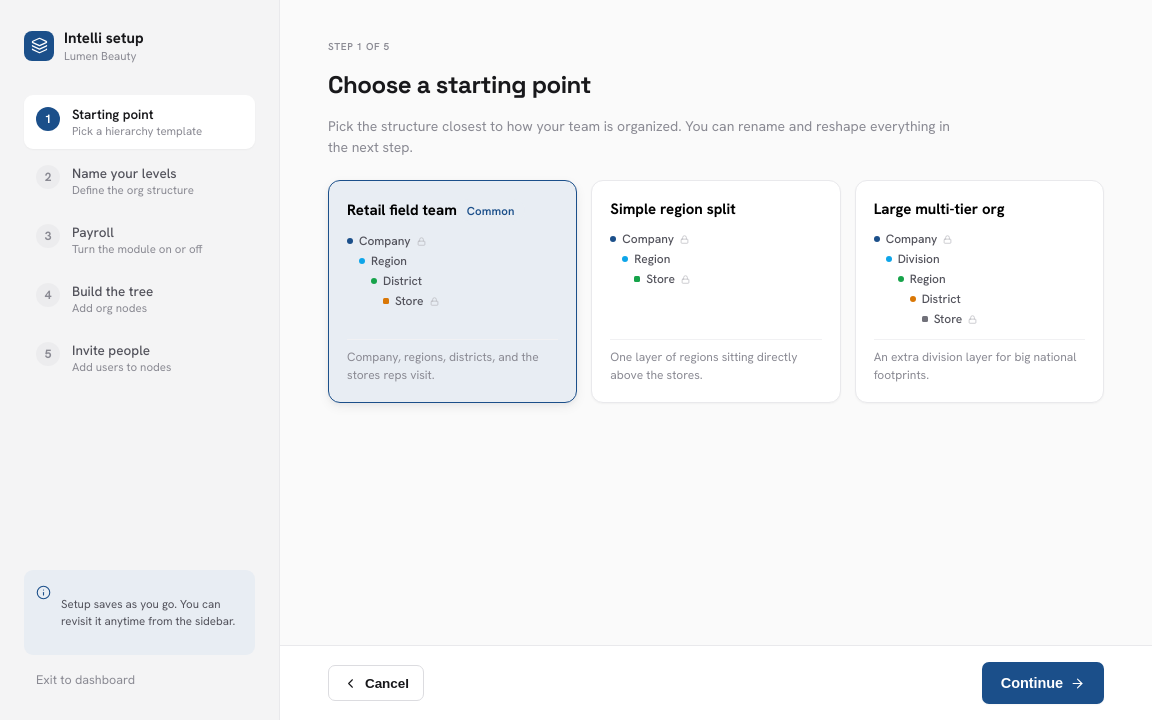
Test: SetupWizard › step 2 Continue saves via PUT /org-levels after the structure is confirmed
Check: the heading "Choose a starting point" is shown, box [328,69,591,100]
Step 1. Click the button "Continue" → (1043, 683), box [982,662,1104,704]
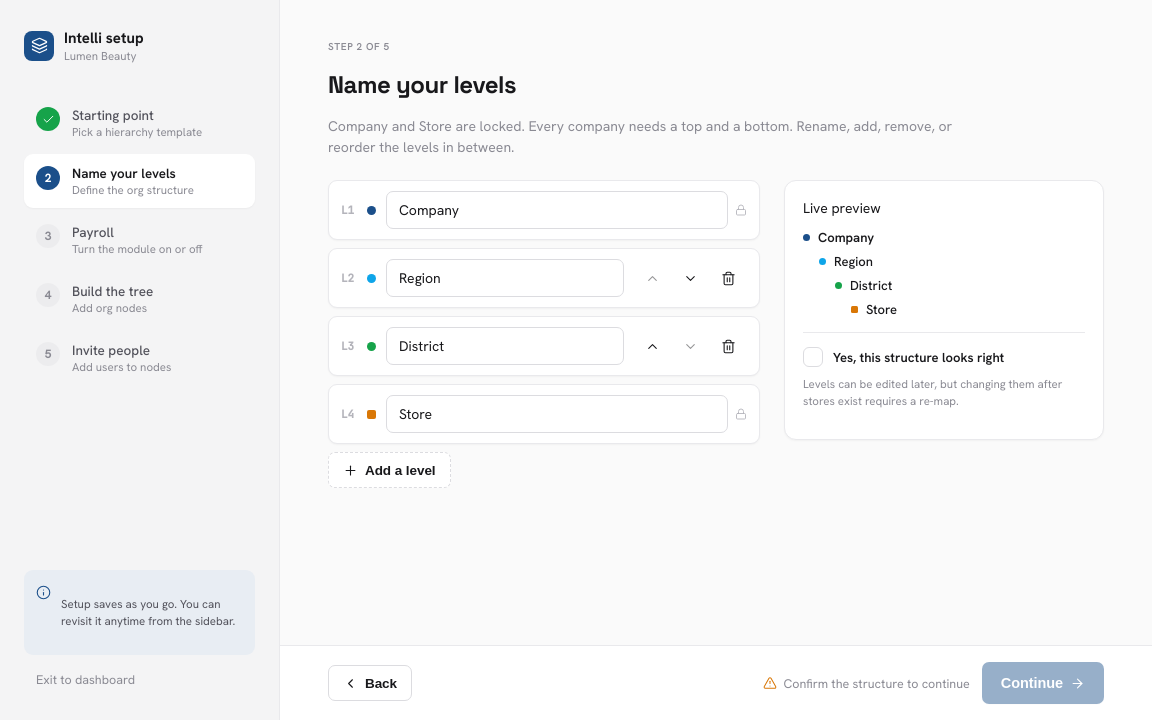
Check: the heading "Name your levels" is shown, box [328,69,516,100]
// Continue is gated until the structure is confirmed.
Step 2. Click the checkbox → (904, 357), box [803,347,1004,367]
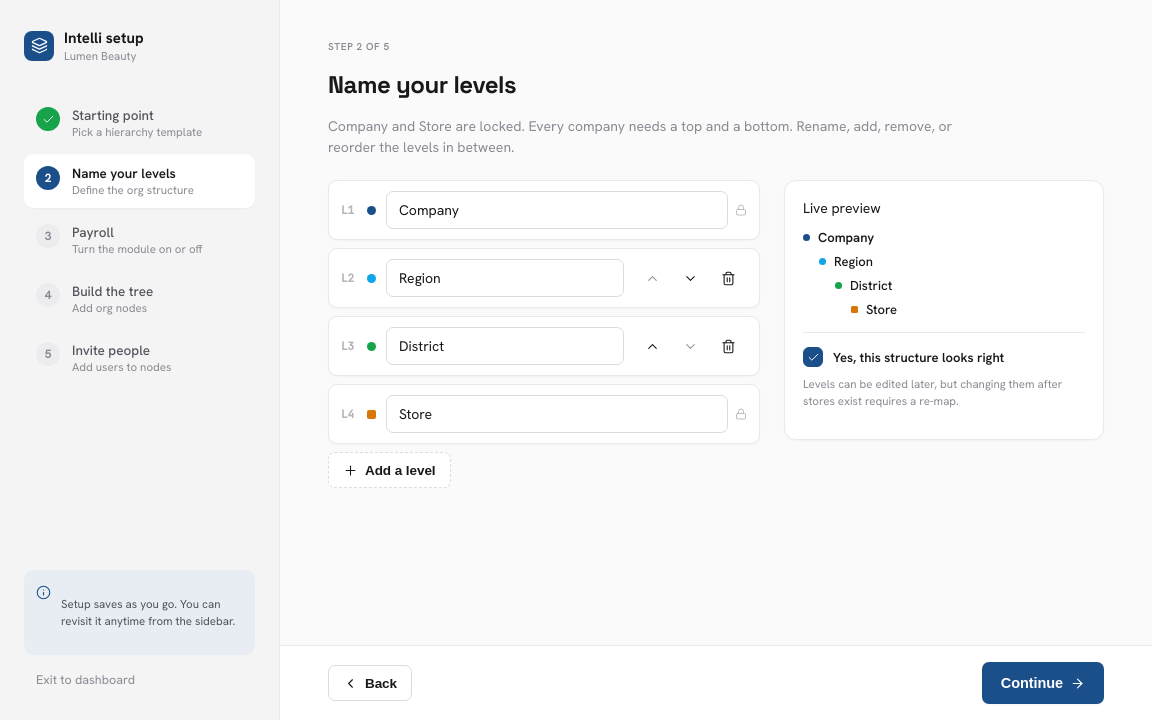
Step 3. Click the button "Continue" → (1043, 683), box [982,662,1104,704]
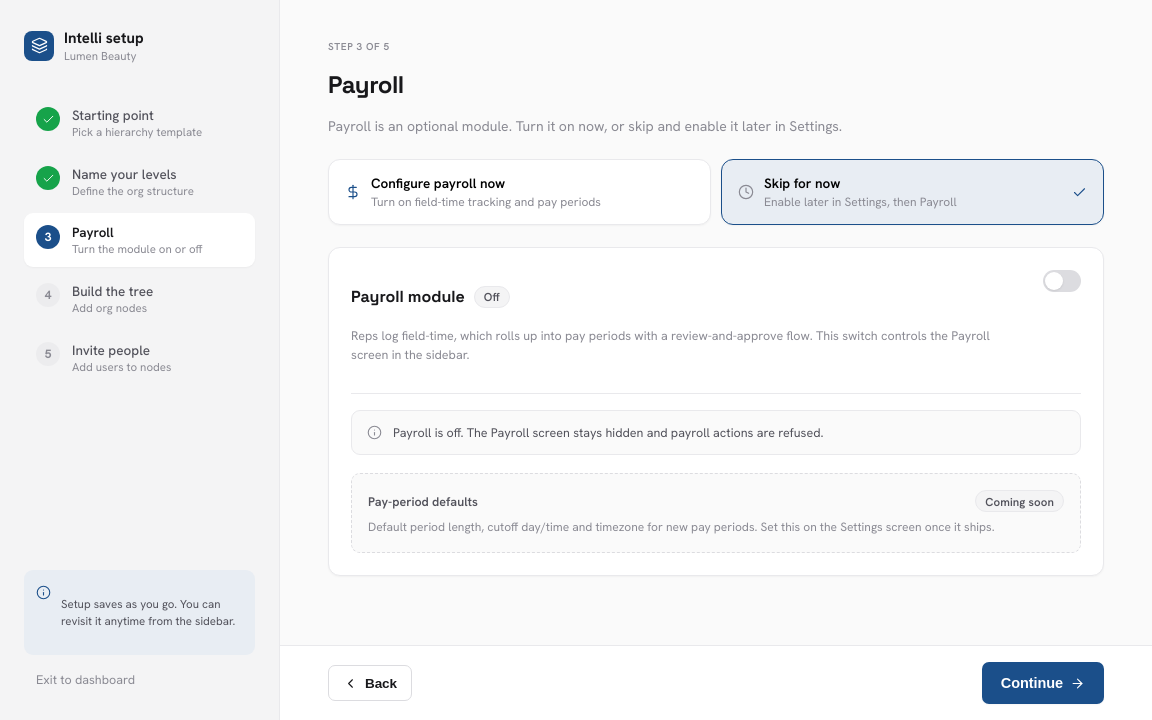
Check: the heading "Payroll" is shown, box [328,69,404,100]
